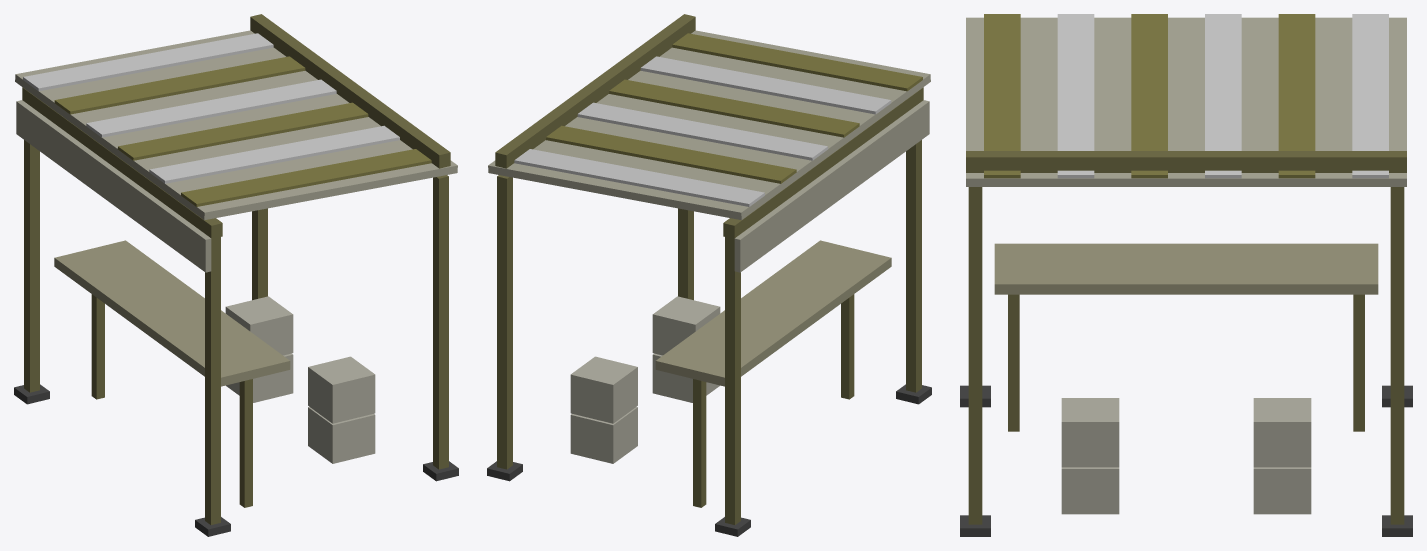
Rendered from SM_SurvivalMarketStall.glb.
3 renders of one model, left to right at view 1: azimuth 30°, elevation 25°; view 2: azimuth 150°, elevation 25°; view 3: azimuth 270°, elevation 25°, orthographic. The views are drawn at different scales.
Parts seen in each view (by area): view 1: canopy, counter, valance, pole2, beam_back, pole3, stripe1, stripe0, stripe2, stripe3, stripe4, stripe5 (+9 smaller); view 2: canopy, counter, valance, pole1, beam_back, pole0, stripe4, stripe1, stripe2, stripe3, stripe5, stripe0 (+9 smaller); view 3: canopy, counter, beam_back, stripe1, stripe4, stripe0, stripe2, stripe3, stripe5, pole1, pole2, crate2 (+7 smaller).
Part boxes in pixels (<box>): canopy: <box>15,30,457,220</box>; counter: <box>54,240,290,386</box>; valance: <box>16,100,211,272</box>; pole2: <box>433,175,448,469</box>; beam_back: <box>250,14,450,168</box>; pole3: <box>205,237,220,524</box>; stripe1: <box>54,56,305,114</box>; stripe0: <box>23,33,273,91</box>; stripe2: <box>86,79,336,137</box>; stripe3: <box>117,102,368,160</box>; stripe4: <box>149,125,399,183</box>; stripe5: <box>181,149,431,206</box>; canopy: <box>488,30,930,220</box>; counter: <box>655,240,891,386</box>; valance: <box>734,100,929,272</box>; pole1: <box>497,175,512,469</box>; beam_back: <box>495,14,695,168</box>; pole0: <box>725,237,740,524</box>; stripe4: <box>640,56,891,114</box>; stripe1: <box>546,125,796,183</box>; stripe2: <box>577,102,828,160</box>; stripe3: <box>609,79,859,137</box>; stripe5: <box>672,33,922,91</box>; stripe0: <box>514,149,764,206</box>; canopy: <box>966,17,1406,186</box>; counter: <box>994,243,1378,294</box>; beam_back: <box>966,151,1406,172</box>; stripe1: <box>1278,14,1315,178</box>; stripe4: <box>1057,14,1094,178</box>; stripe0: <box>1352,14,1388,178</box>; stripe2: <box>1205,14,1241,178</box>; stripe3: <box>1131,14,1167,178</box>; stripe5: <box>984,14,1020,178</box>; pole1: <box>1390,187,1404,524</box>; pole2: <box>968,187,982,524</box>; crate2: <box>1253,398,1311,467</box>.
Size of the model in its own units: 1.78 by 2.18 by 2.36.
